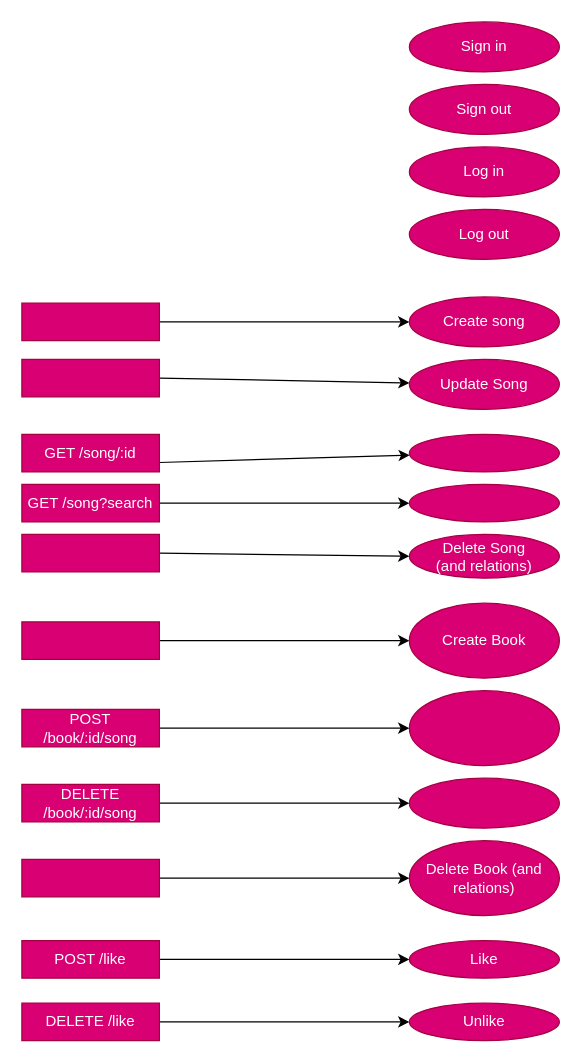
The diagram is 581 pixels wide and 1063 high, and some of its shapes have lost their labels. The centre of each missing label's shape, as x and y in pixels:
Add Song to Book: point 483,727
DELETE /book/:id: point 90,877
DELETE /song/:id: point 90,552
List songs (search): point 483,502
POST /book: point 90,640
POST /song: point 90,321
PUT /song: point 90,377
Remove song from book: point 483,802
View song: point 483,452
